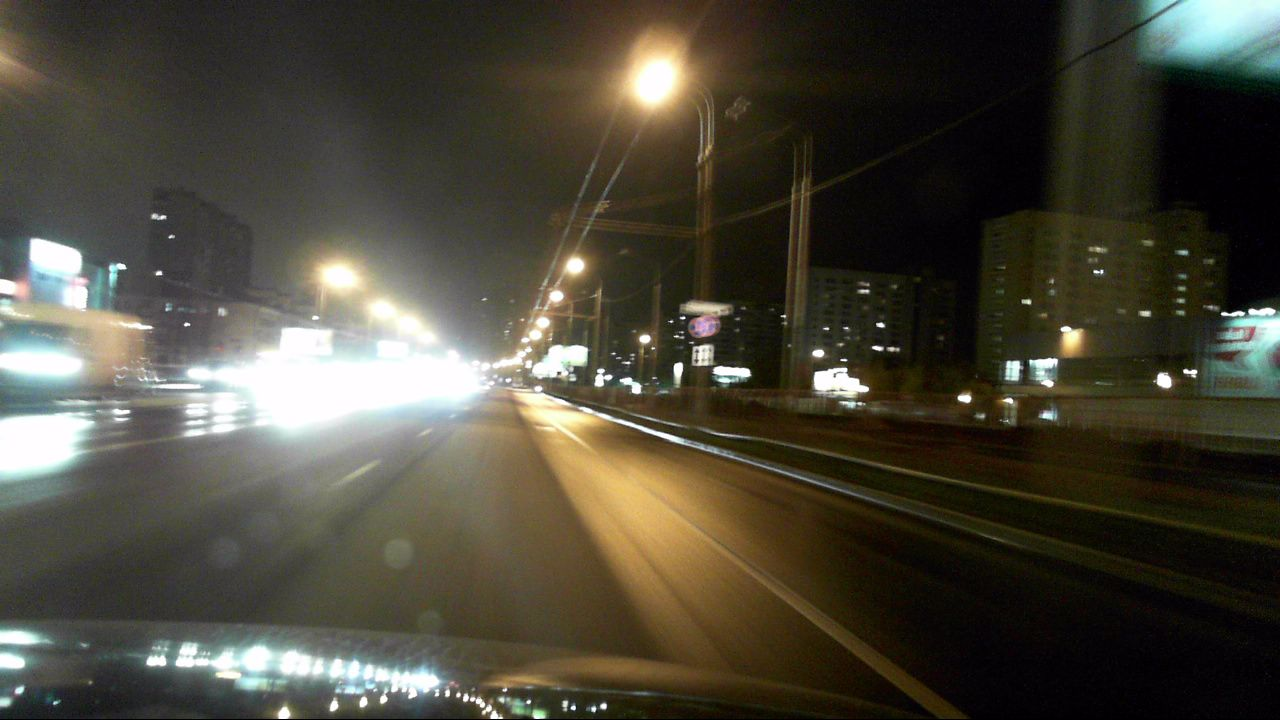No Parking: (688, 318, 706, 337)
